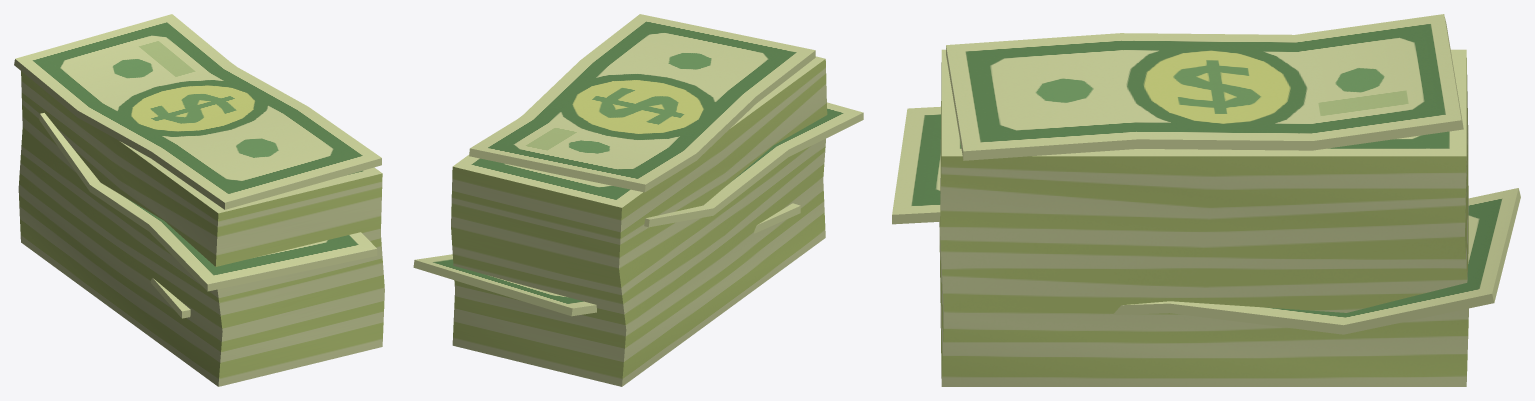
Rendered from Cash_10.fbx.
3 renders of one model, left to right at view 1: azimuth 30°, elevation 25°; view 2: azimuth 150°, elevation 25°; view 3: azimuth 270°, elevation 25°, orthographic. The views are drawn at different scales.
Parts seen in each view (by area): view 1: Cash_10; view 2: Cash_10; view 3: Cash_10.
Part boxes in pixels (x1,y1,x2,y2): Cash_10: (14,14,384,386); Cash_10: (413,14,863,386); Cash_10: (892,14,1520,386).
Bounding box in the file's own units: 15.74 × 13.51 × 29.95.
